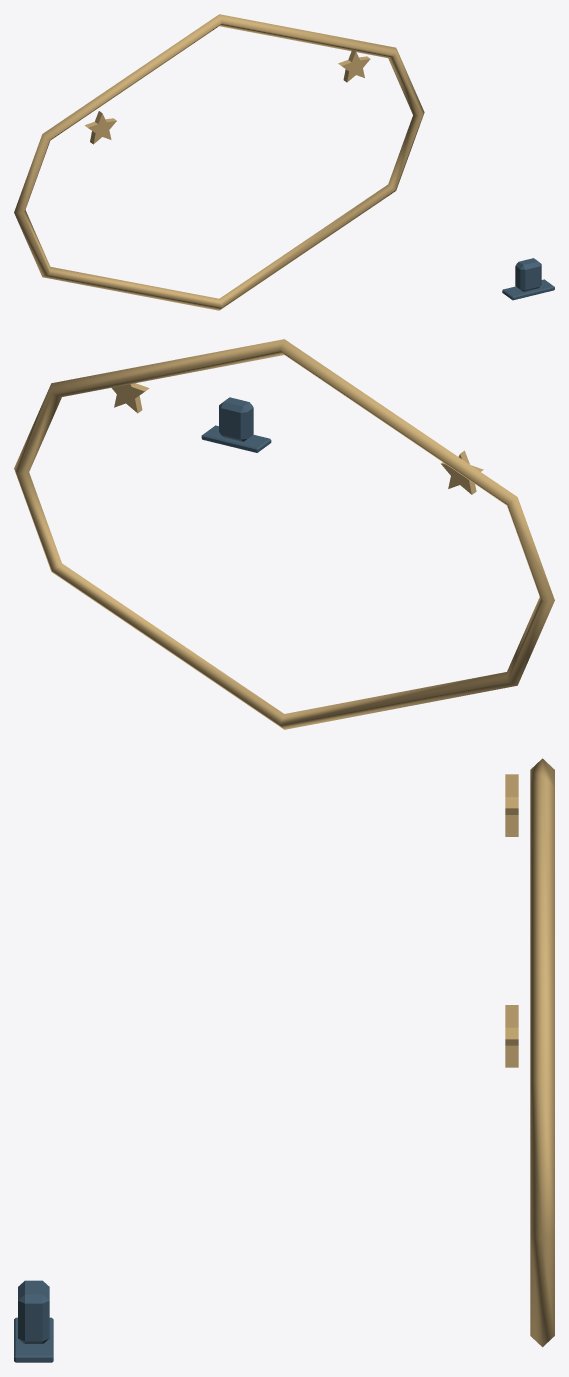
File: m17_level_2.glb
3 renders of one model, top to bottom at view 1: azimuth 30°, elevation 25°; view 2: azimuth 150°, elevation 25°; view 3: azimuth 270°, elevation 25°, orthographic. The views are drawn at different scales.
Visible parts, largest first — view 1: m17_level_2; view 2: m17_level_2; view 3: m17_level_2.
Boxes of the visible parts, bbox=[...] form: m17_level_2: bbox=[14, 14, 554, 310]; m17_level_2: bbox=[14, 339, 554, 729]; m17_level_2: bbox=[14, 758, 554, 1362].
Size of the model in its own units: 2.14 by 1.48 by 1.31.
